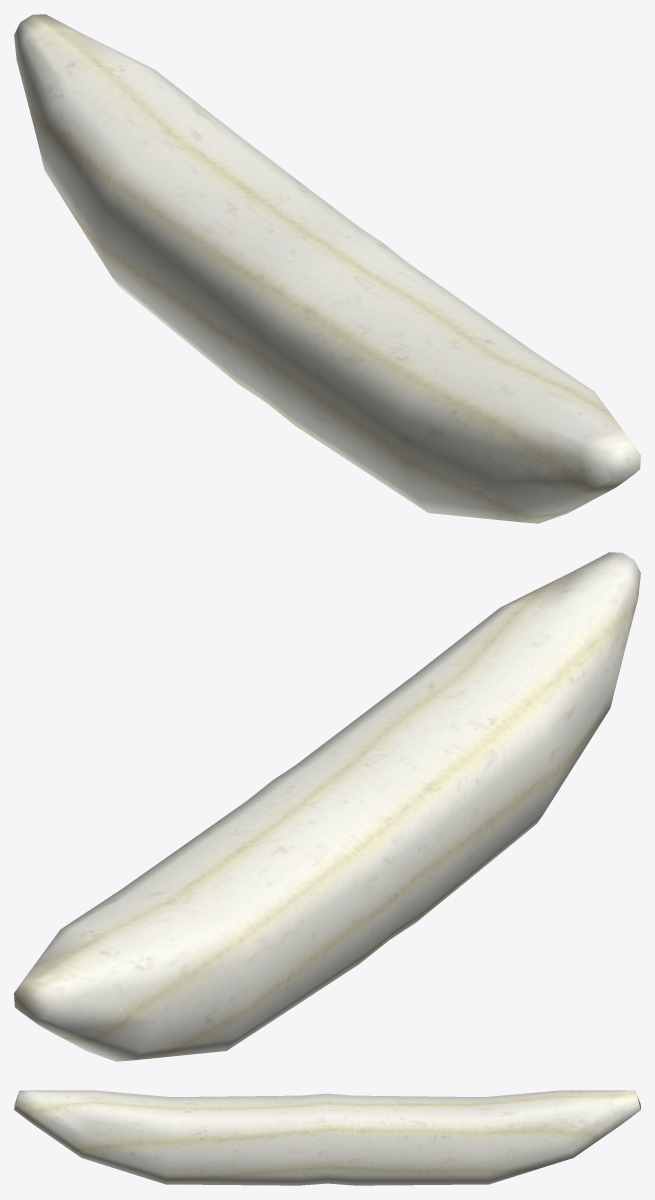
The model's file is Banana_pilled.gltf.
The picture shows the model from 3 angles, top to bottom: view 1: azimuth 30°, elevation 25°; view 2: azimuth 150°, elevation 25°; view 3: azimuth 270°, elevation 25°; orthographic projection. The views are drawn at different scales.
Visible parts, largest first — view 1: Banana_piled; view 2: Banana_piled; view 3: Banana_piled.
Boxes of the visible parts, left/top/right/bottom form: Banana_piled: left=14, top=14, right=640, bottom=523; Banana_piled: left=14, top=552, right=640, bottom=1061; Banana_piled: left=14, top=1090, right=640, bottom=1185.
Bounding box in the file's own units: 1.09 × 1.07 × 6.87.
Materials: 1 (1 with a texture image).
